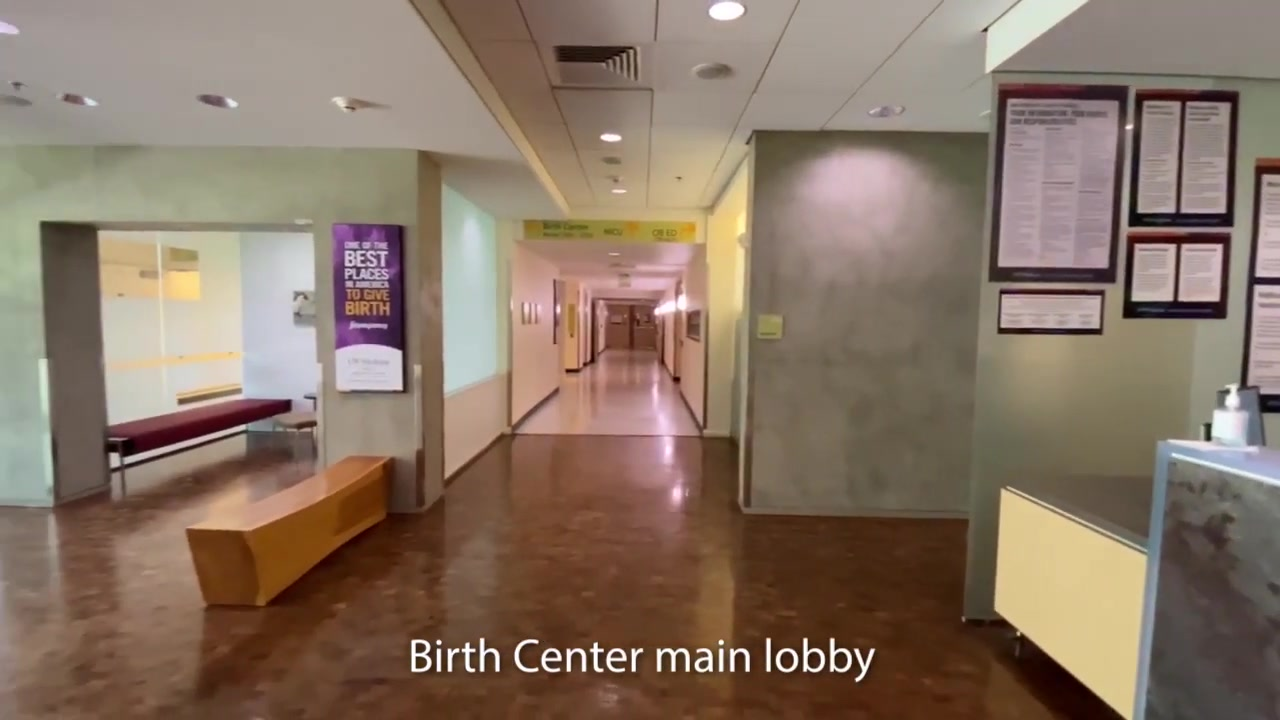chair: (185, 454, 391, 606), (275, 396, 321, 460)
countertop: (994, 459, 1153, 552)
dispenser: (1211, 383, 1249, 446)
sofa: (101, 393, 293, 490)
